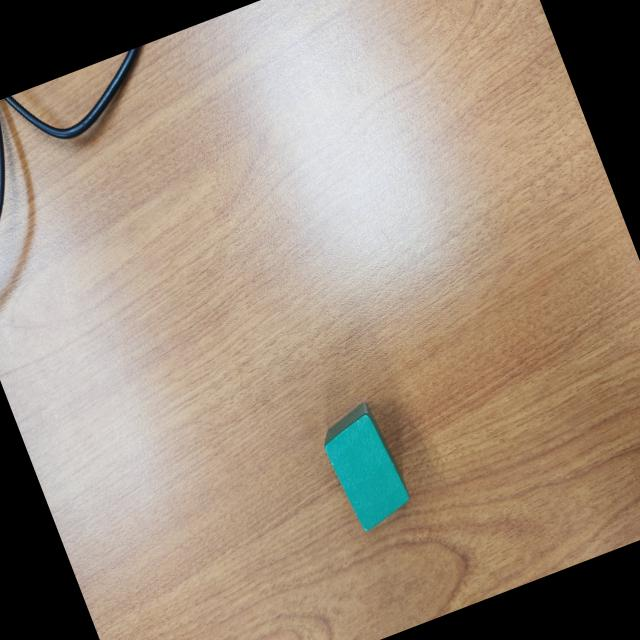green: (314, 396, 418, 536)
